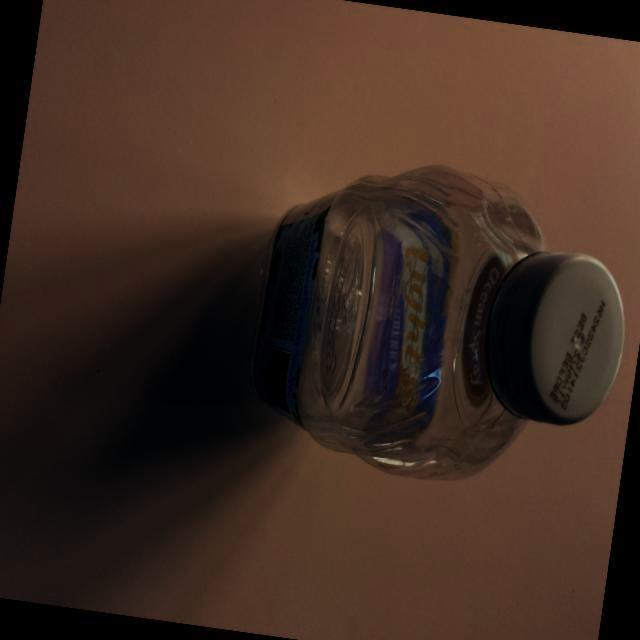plastic: (199, 122, 640, 525)
